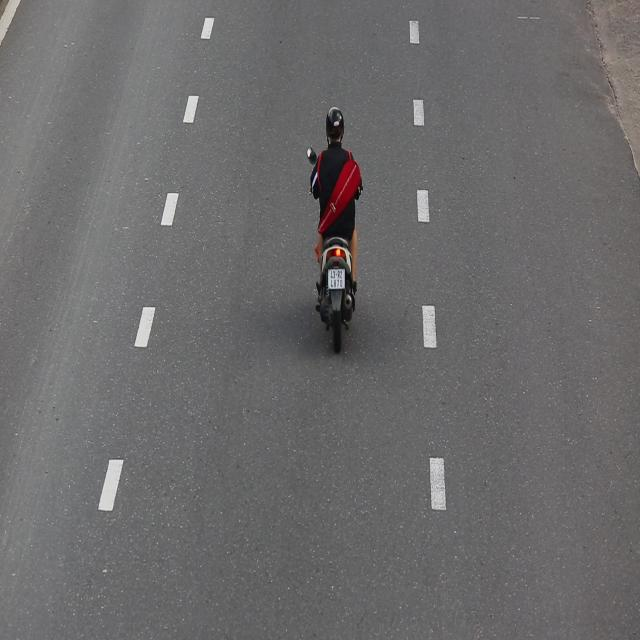motorbike: (300, 96, 376, 363)
